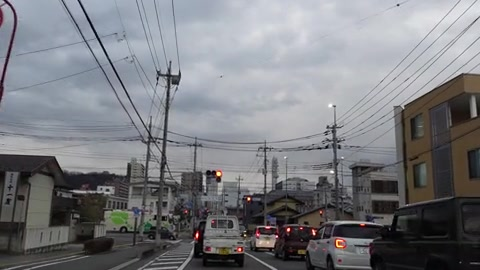traffic_sign: (132, 207, 140, 216)
